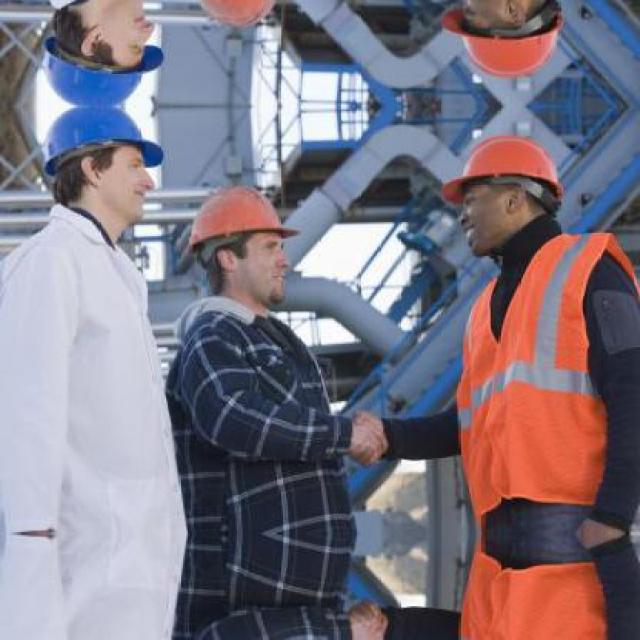helmet: (435, 132, 580, 264), (44, 108, 171, 239), (182, 180, 304, 306), (43, 0, 172, 105), (436, 0, 582, 82), (181, 0, 306, 32)
